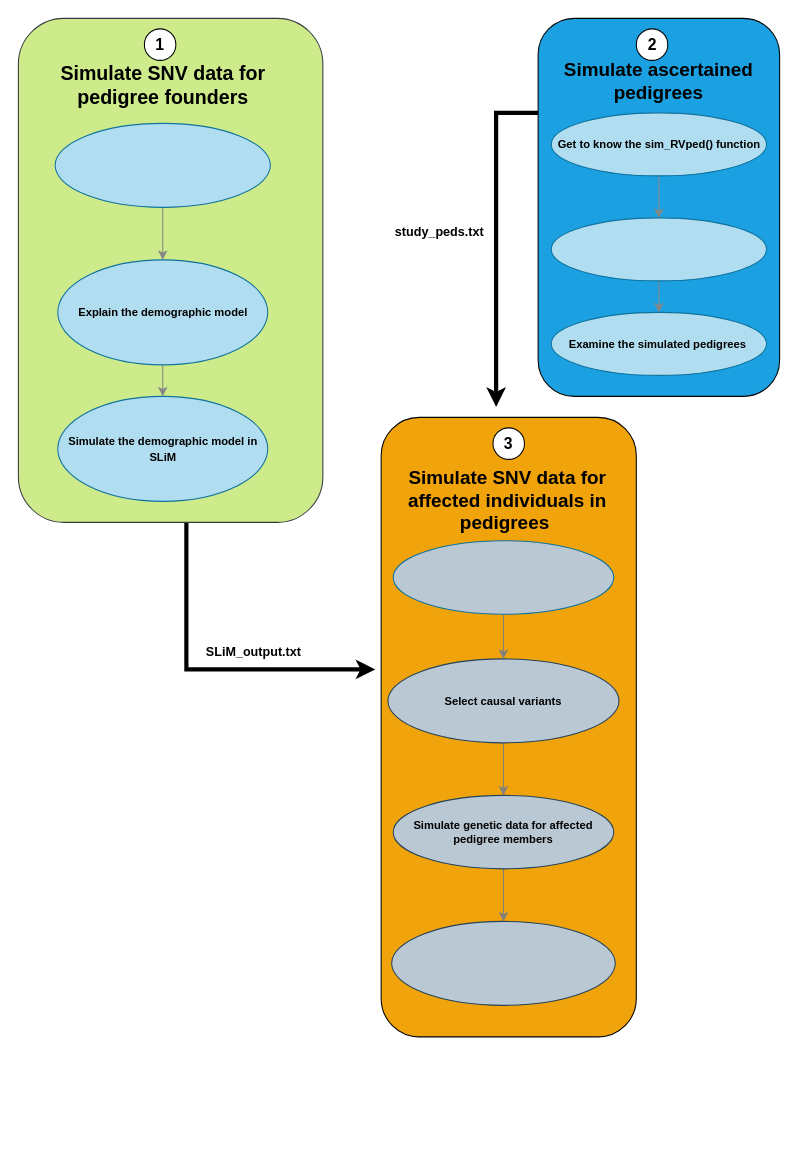
The diagram is 803 pixels wide and 1155 high, and some of its shapes have lost their labels. Here are the shapes that lost their labels. From the top down, the centre of each, then its label:
At (x=162, y=164): "Create recombination map for SLiM".
At (x=658, y=249): "Simulate pedigrees on the Compute Canada cluster".
At (x=503, y=577): "Read and process SLiM data in R".
At (x=503, y=962): "Generate data files (.sam, .var and .geno)".
